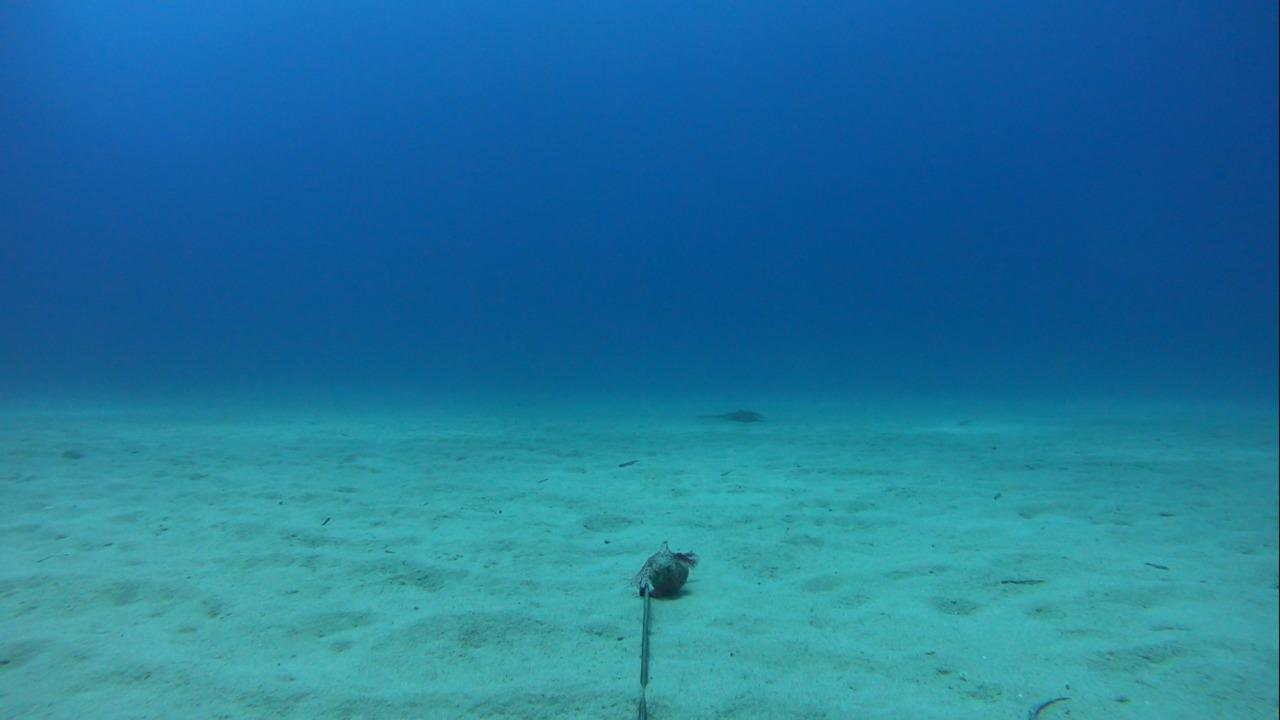myliobatis: (672, 399, 767, 433)
